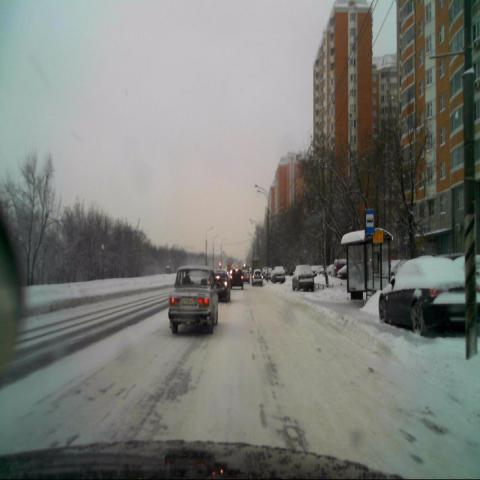5_16: (366, 208, 375, 235)
